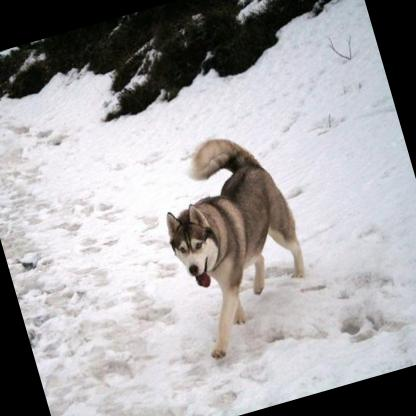Siberian_husky: (144, 122, 327, 369)
